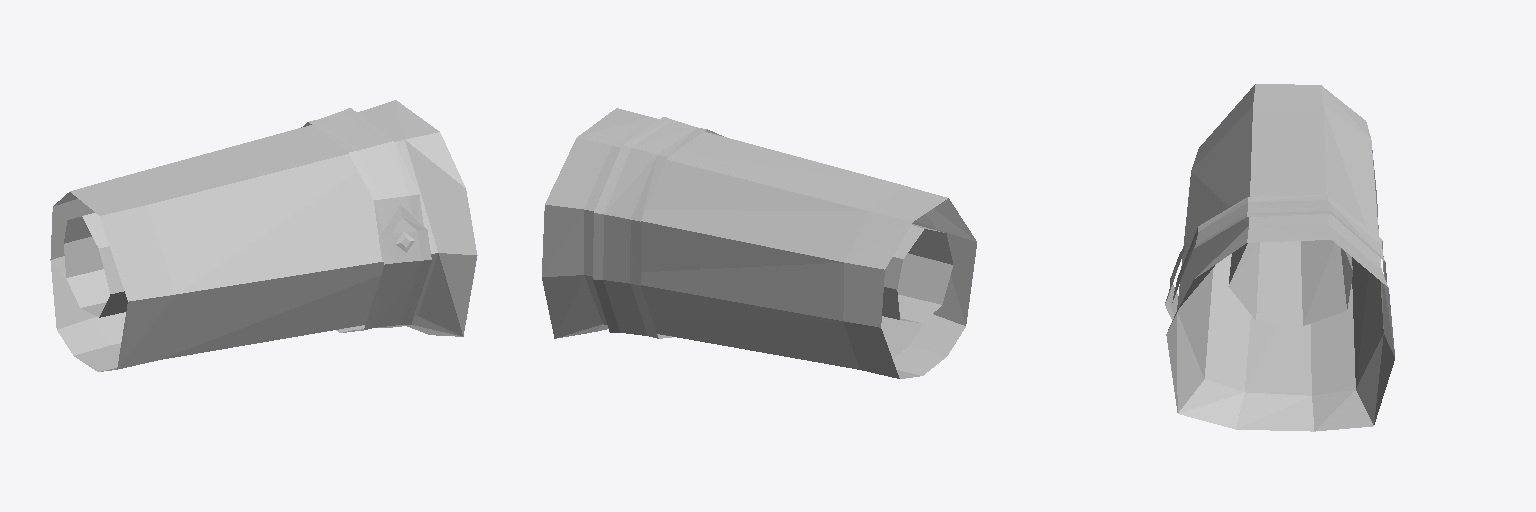
The model's file is KOSHIRO_ABrazo_2.obj.
The picture shows the model from 3 angles: view 1: azimuth 30°, elevation 25°; view 2: azimuth 150°, elevation 25°; view 3: azimuth 270°, elevation 25°; orthographic projection.
Visible parts, largest first — view 1: AnteBrazo_2_face_Plane.007; view 2: AnteBrazo_2_face_Plane.007; view 3: AnteBrazo_2_face_Plane.007.
Boxes of the visible parts, x1=… form: AnteBrazo_2_face_Plane.007: x1=50, y1=100, x2=477, y2=371; AnteBrazo_2_face_Plane.007: x1=542, y1=108, x2=976, y2=378; AnteBrazo_2_face_Plane.007: x1=1165, y1=84, x2=1394, y2=431.
Bounding box in the file's own units: 0.1786 × 0.1017 × 0.1058.